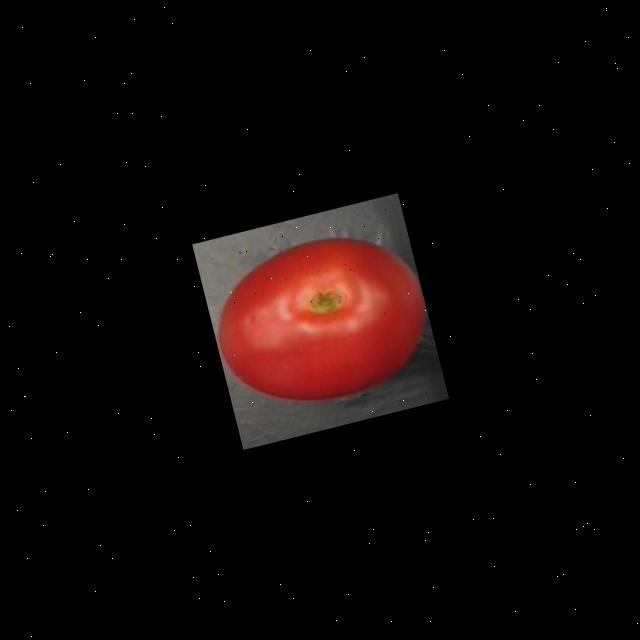tomato: (196, 212, 442, 423)
